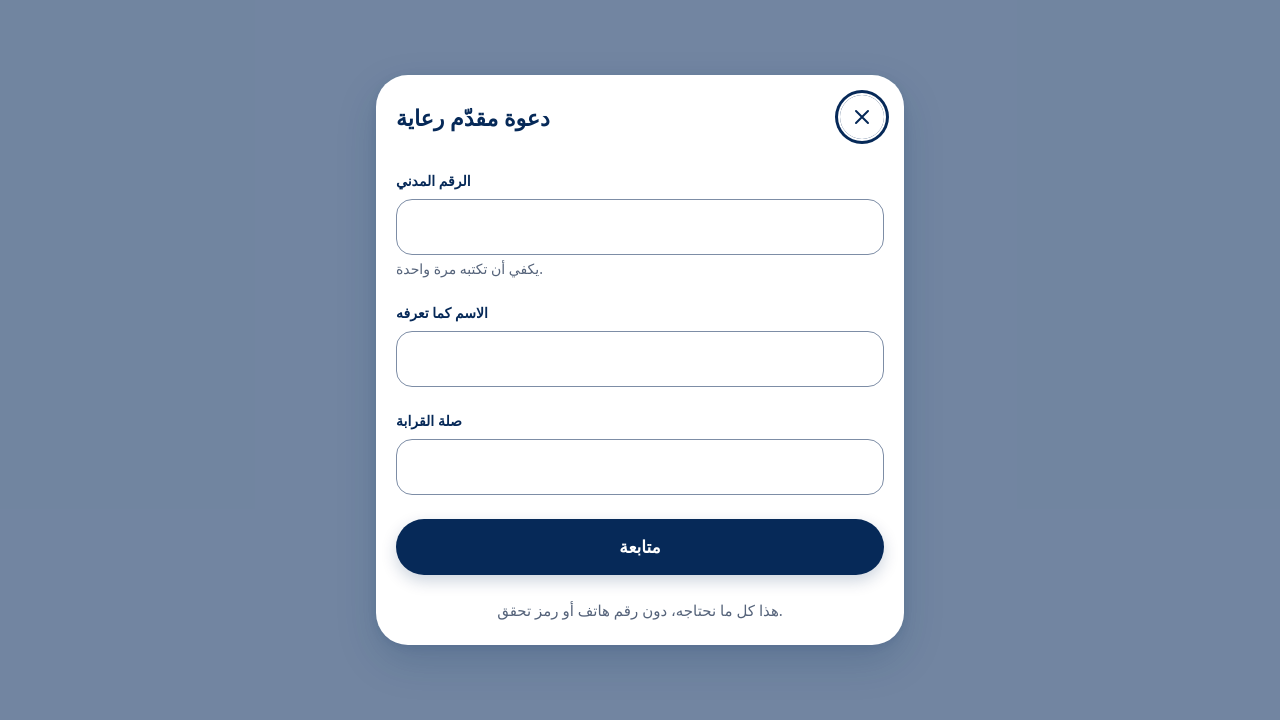
Test: F1 invite form — a real form with a message per empty field › only the field still empty keeps its message; a short Civil ID gets the length message
Type "12345" into the field labelled "الرقم المدني" at (640, 227), box [396,199,884,255]
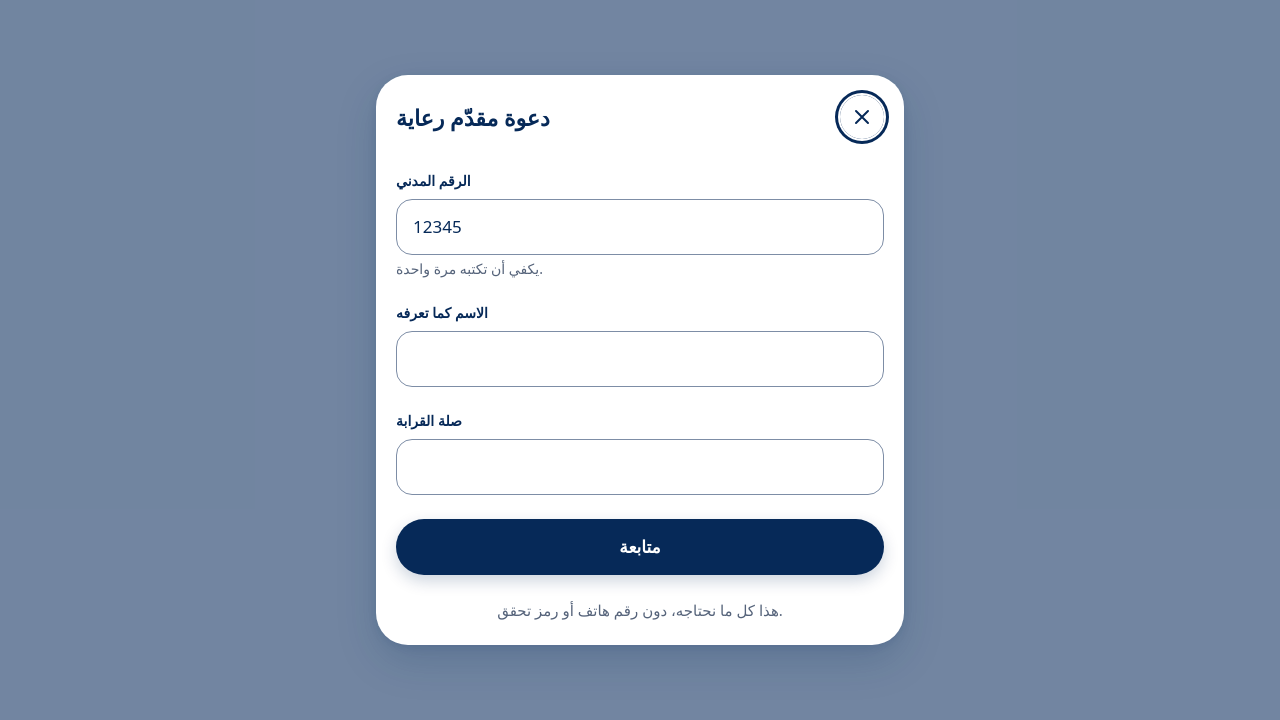
Type "منى" into the field labelled "الاسم كما تعرفه" at (640, 359), box [396,331,884,387]
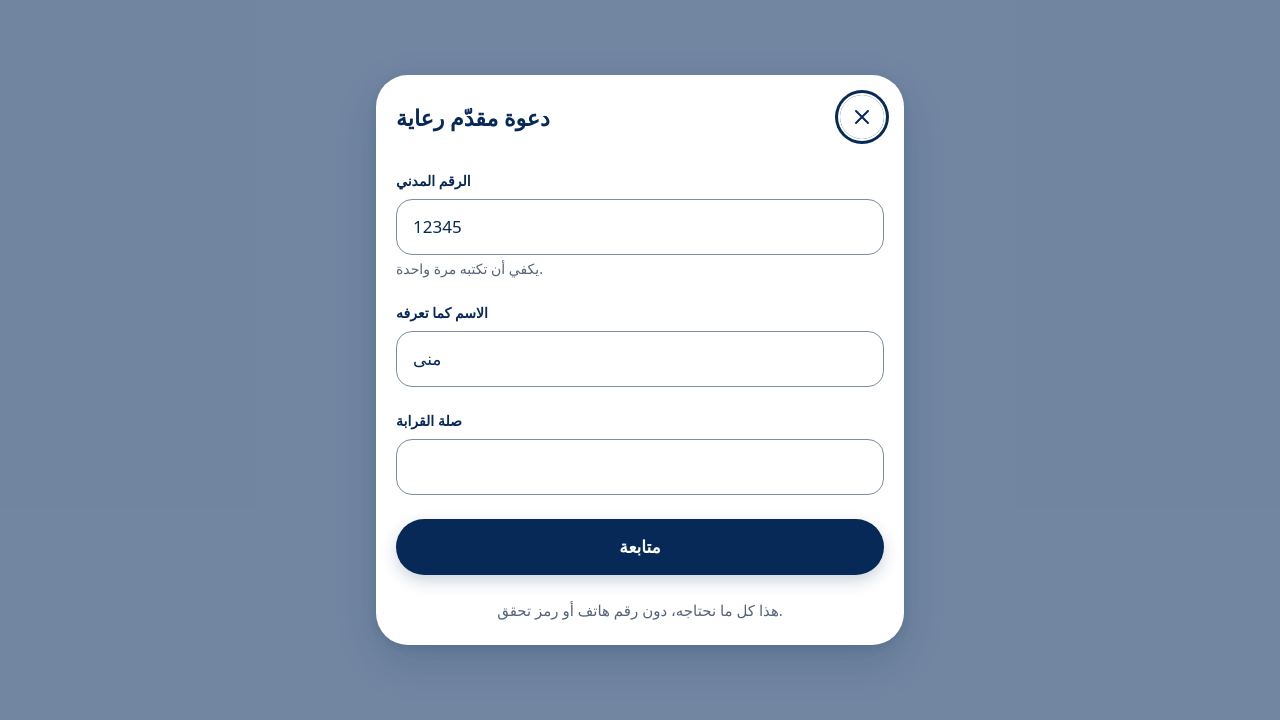
Submit the form labelled "الرقم المدني", box [396,171,884,621]
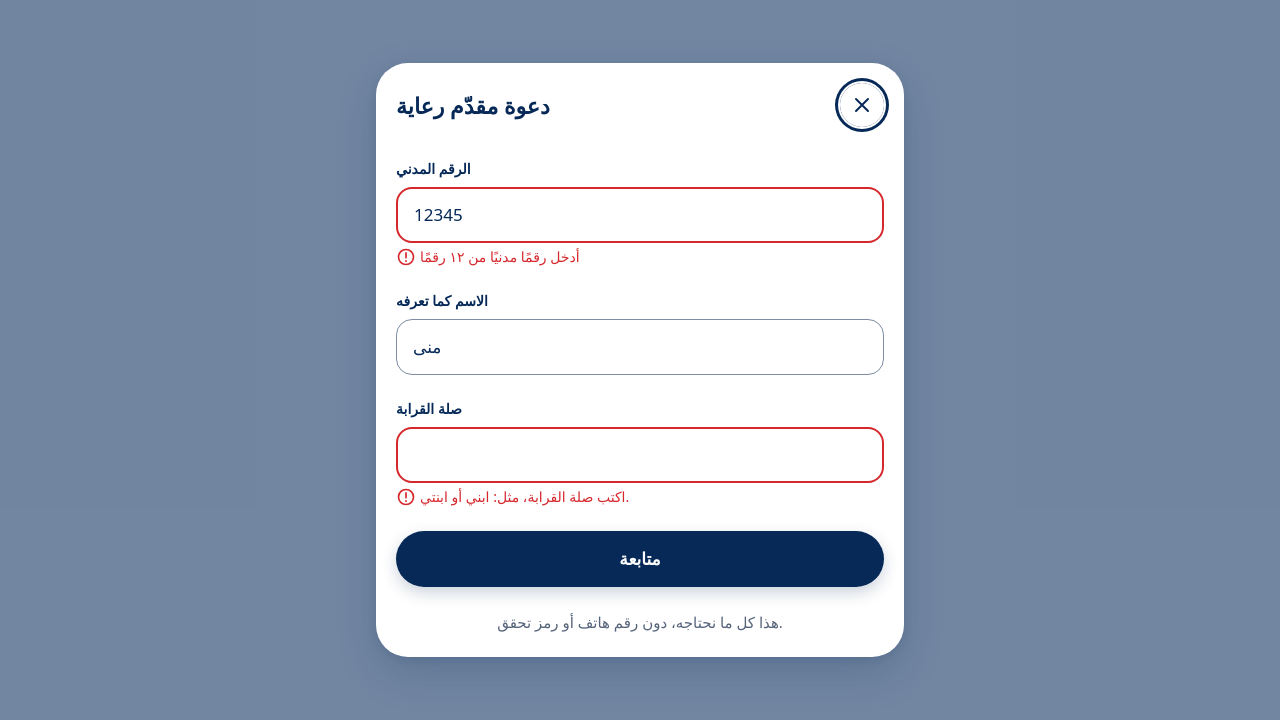
Expected: the text "أدخل رقمًا مدنيًا من ١٢ رقمًا" is shown, [396,247,580,267]
Expected: the text "اكتب صلة القرابة، مثل: ابني أو ابنتي." is shown, [396,487,629,507]
